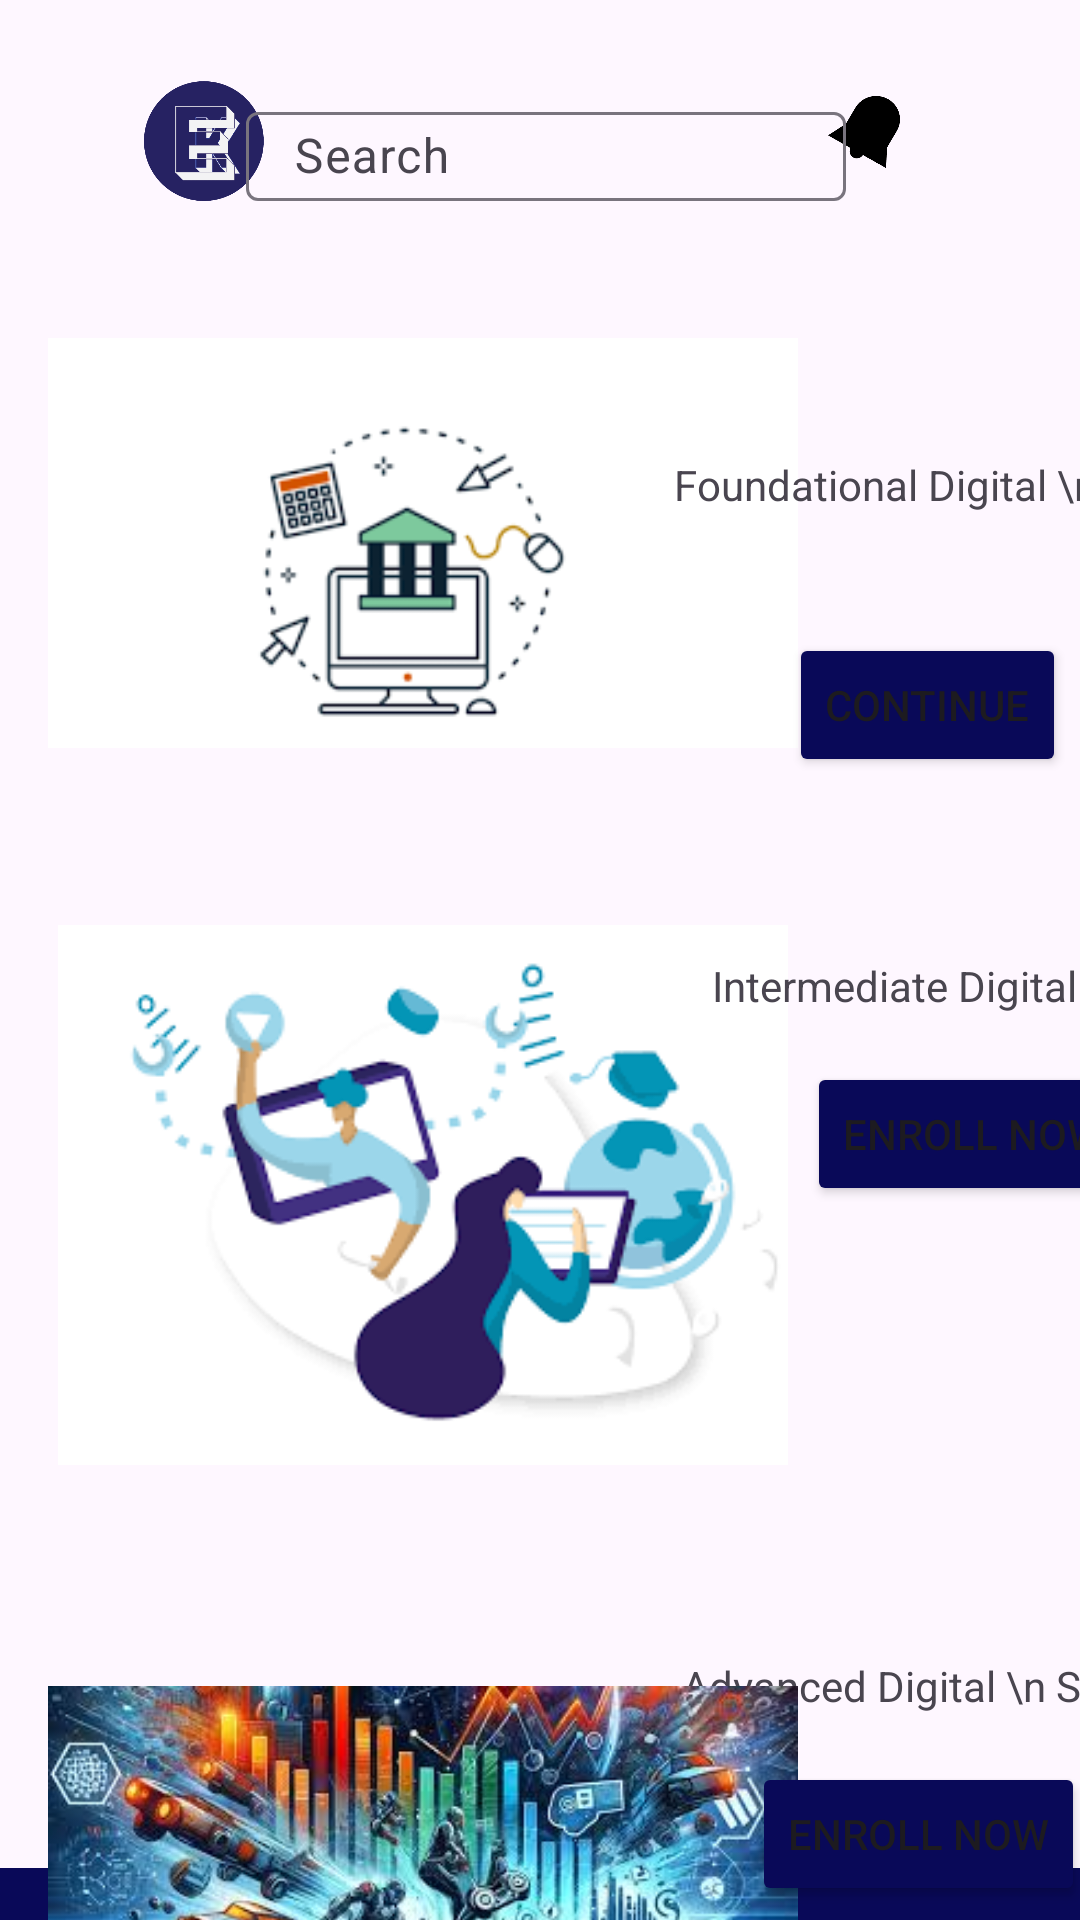

Icons on this 1080w x 1920h Android screen, each with its box as (x1, y1, x2, y2):
bell: (828, 96, 900, 168)
